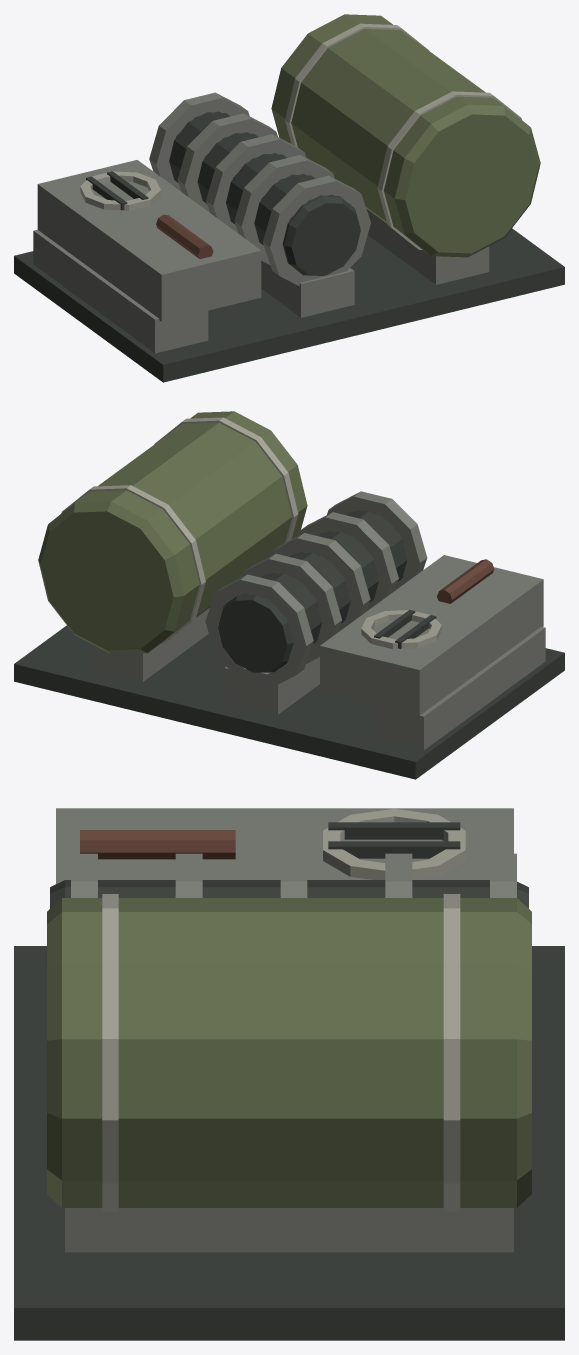
Rendered from bioferrite_generator.obj.
The picture shows the model from 3 angles, top to bottom: view 1: azimuth 30°, elevation 25°; view 2: azimuth 150°, elevation 25°; view 3: azimuth 270°, elevation 25°; orthographic projection. The views are drawn at different scales.
Visible parts, largest first — view 1: bioferrite_generator; view 2: bioferrite_generator; view 3: bioferrite_generator.
Part boxes in pixels (x1,y1,x2,y2): bioferrite_generator: (14,14,564,382); bioferrite_generator: (14,411,564,779); bioferrite_generator: (14,808,564,1340).
Size of the model in its own units: 2.86 by 1.31 by 1.84.
